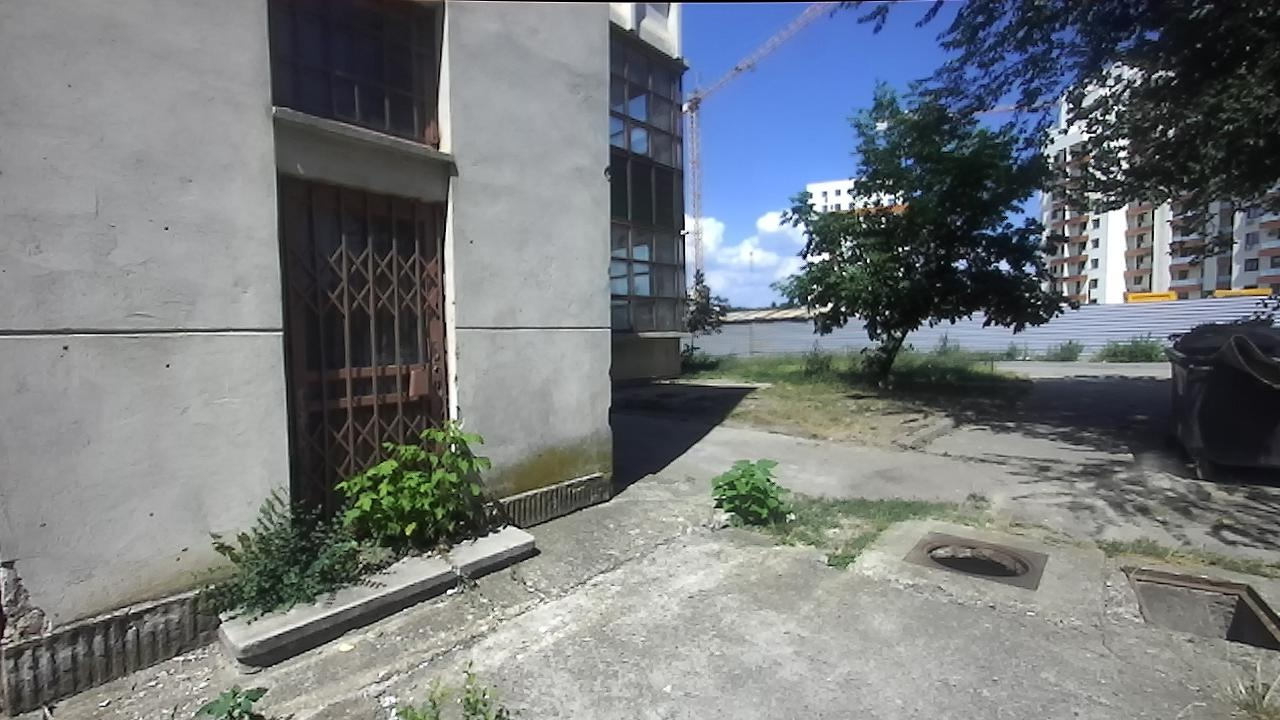drain: (1118, 561, 1280, 655), (915, 535, 1030, 581)
